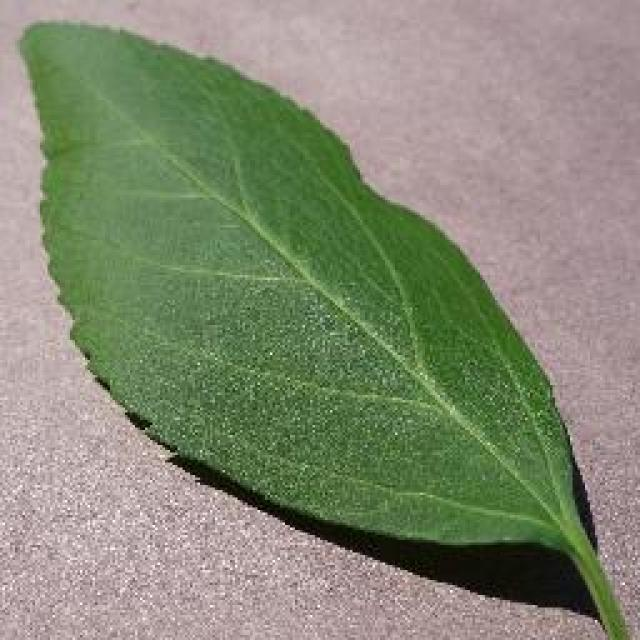Cherry___healthy: (10, 8, 625, 638)
